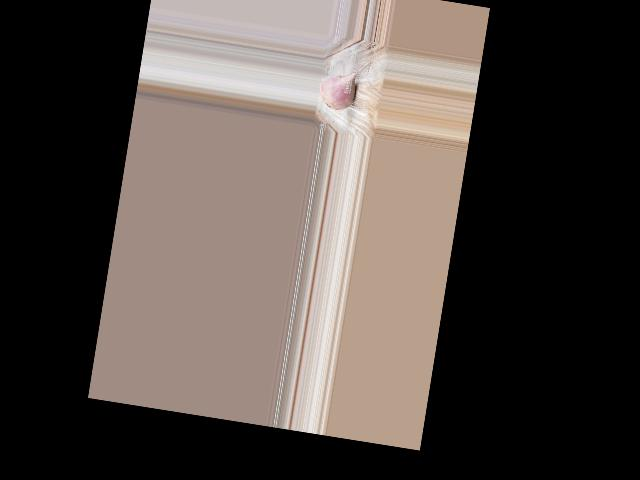beet: (317, 54, 370, 113)
